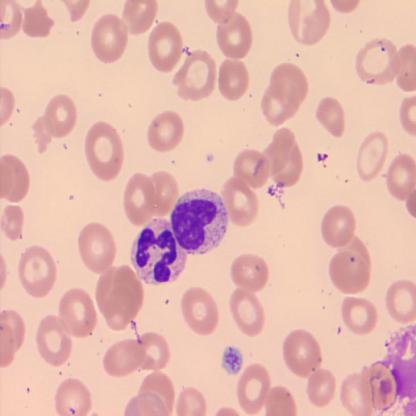Metamyelocyte: (169, 187, 229, 258)
